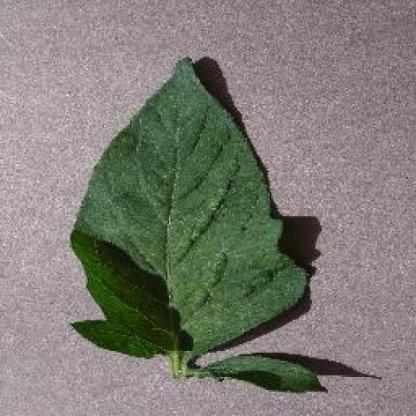Tomato_Spider_Mites: (70, 58, 305, 348)
